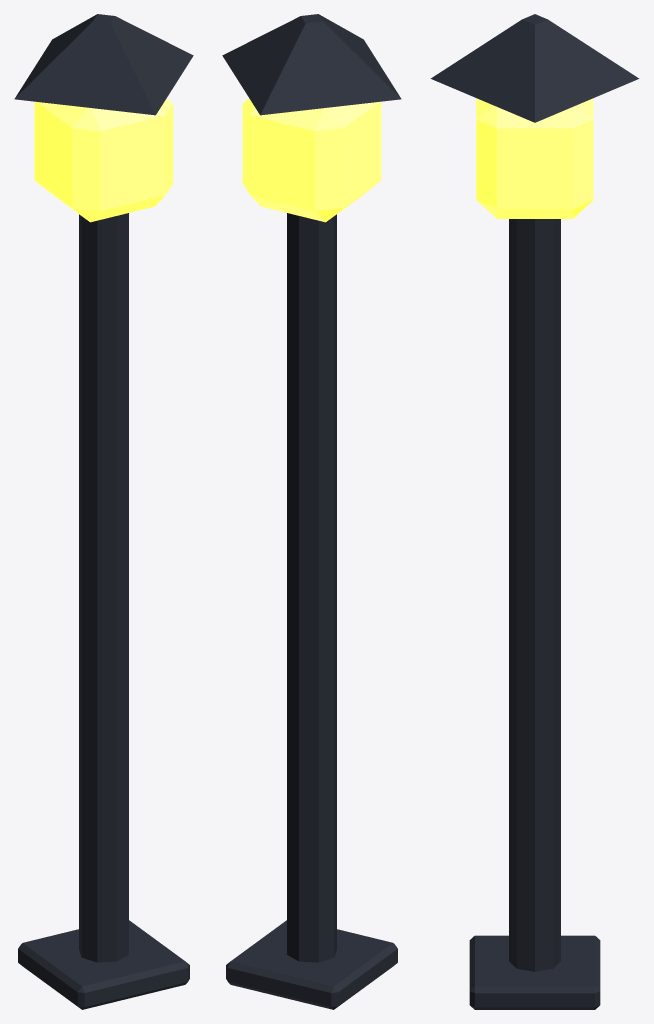
The model's file is lamp.glb.
3 renders of one model, left to right at view 1: azimuth 30°, elevation 25°; view 2: azimuth 150°, elevation 25°; view 3: azimuth 270°, elevation 25°, orthographic.
Visible parts, largest first — view 1: g_m_2a2f3a, g_m_fde68a_e; view 2: g_m_2a2f3a, g_m_fde68a_e; view 3: g_m_2a2f3a, g_m_fde68a_e.
Part boxes in pixels (x1,y1,x2,y2): g_m_2a2f3a: [14, 14, 193, 1009]; g_m_fde68a_e: [34, 98, 173, 222]; g_m_2a2f3a: [222, 14, 401, 1009]; g_m_fde68a_e: [242, 98, 381, 222]; g_m_2a2f3a: [430, 14, 639, 1009]; g_m_fde68a_e: [476, 98, 593, 218].
Size of the model in its own units: 0.8 by 4.08 by 0.8.
